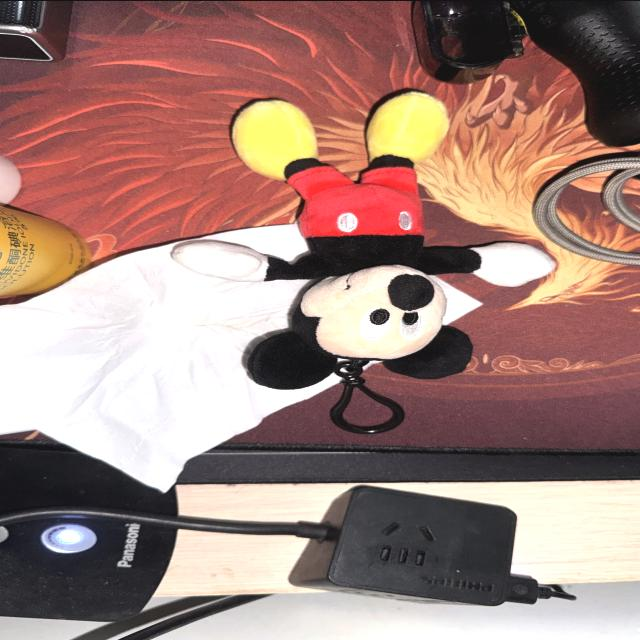mickey: (173, 91, 554, 388)
